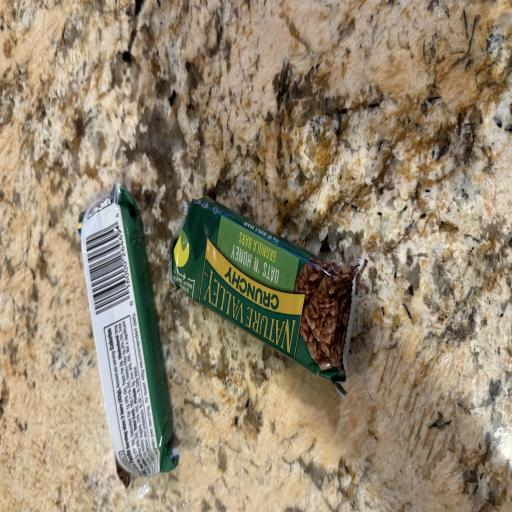granola: (170, 198, 366, 395), (79, 184, 178, 479)
